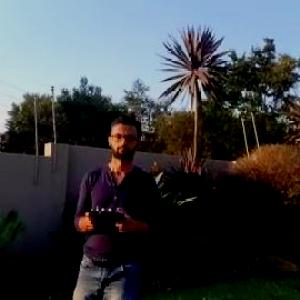follow: (68, 108, 159, 299)
